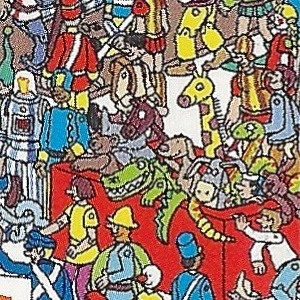Odlaw: (268, 130, 296, 170)
